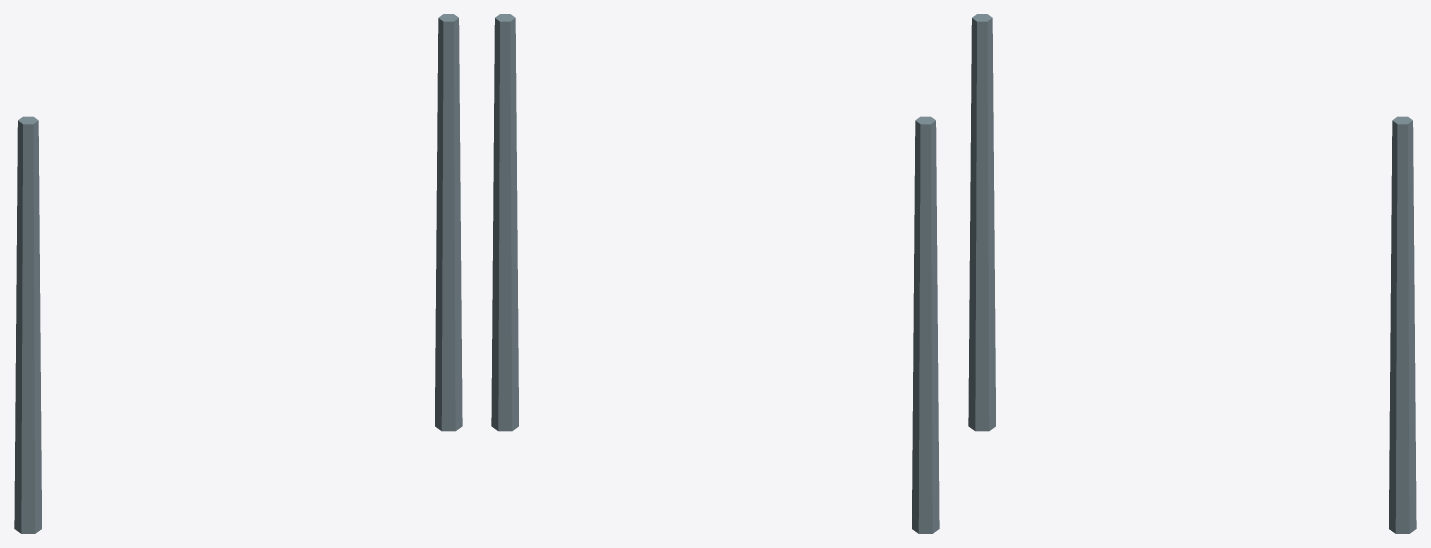
File: Frontier_FieldShelter_Frame.glb
3 views of the same model, side by side, from view 1: azimuth 30°, elevation 25°; view 2: azimuth 150°, elevation 25°; view 3: azimuth 330°, elevation 25° (orthographic).
Visible parts, largest first — view 1: Frontier_FieldShelter_Frame; view 2: Frontier_FieldShelter_Frame; view 3: Frontier_FieldShelter_Frame.
Boxes of the visible parts, x1,y1,x2,y2 form: Frontier_FieldShelter_Frame: [14, 14, 462, 533]; Frontier_FieldShelter_Frame: [491, 14, 939, 533]; Frontier_FieldShelter_Frame: [968, 14, 1416, 533].
Size of the model in its own units: 2.94 by 2.6 by 0.16.
